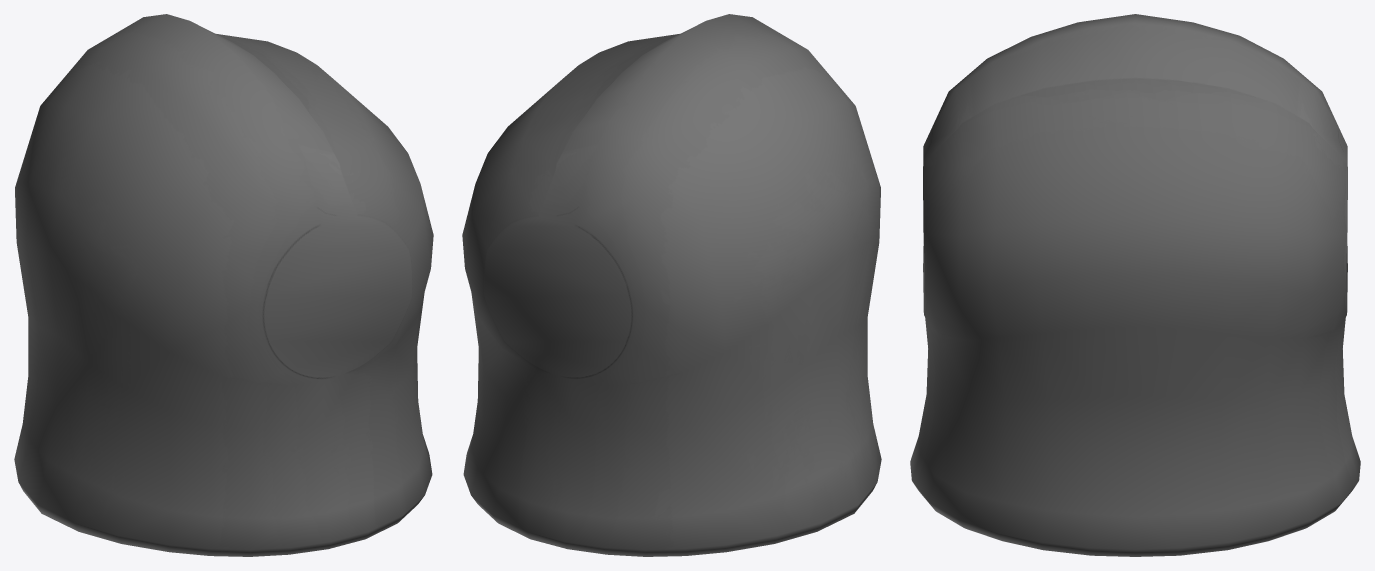
Rendered from torso_1.dae.
3 renders of one model, left to right at view 1: azimuth 30°, elevation 25°; view 2: azimuth 150°, elevation 25°; view 3: azimuth 270°, elevation 25°, orthographic.
Parts seen in each view (by area): view 1: lp_new; view 2: lp_new; view 3: lp_new.
Boxes of the visible parts, left/top/right/bottom form: lp_new: left=14, top=14, right=433, bottom=556; lp_new: left=462, top=14, right=881, bottom=556; lp_new: left=910, top=14, right=1360, bottom=556.
Bounding box in the file's own units: 0.2975 × 0.3191 × 0.3471.
Materials: 1 (1 with a texture image).
